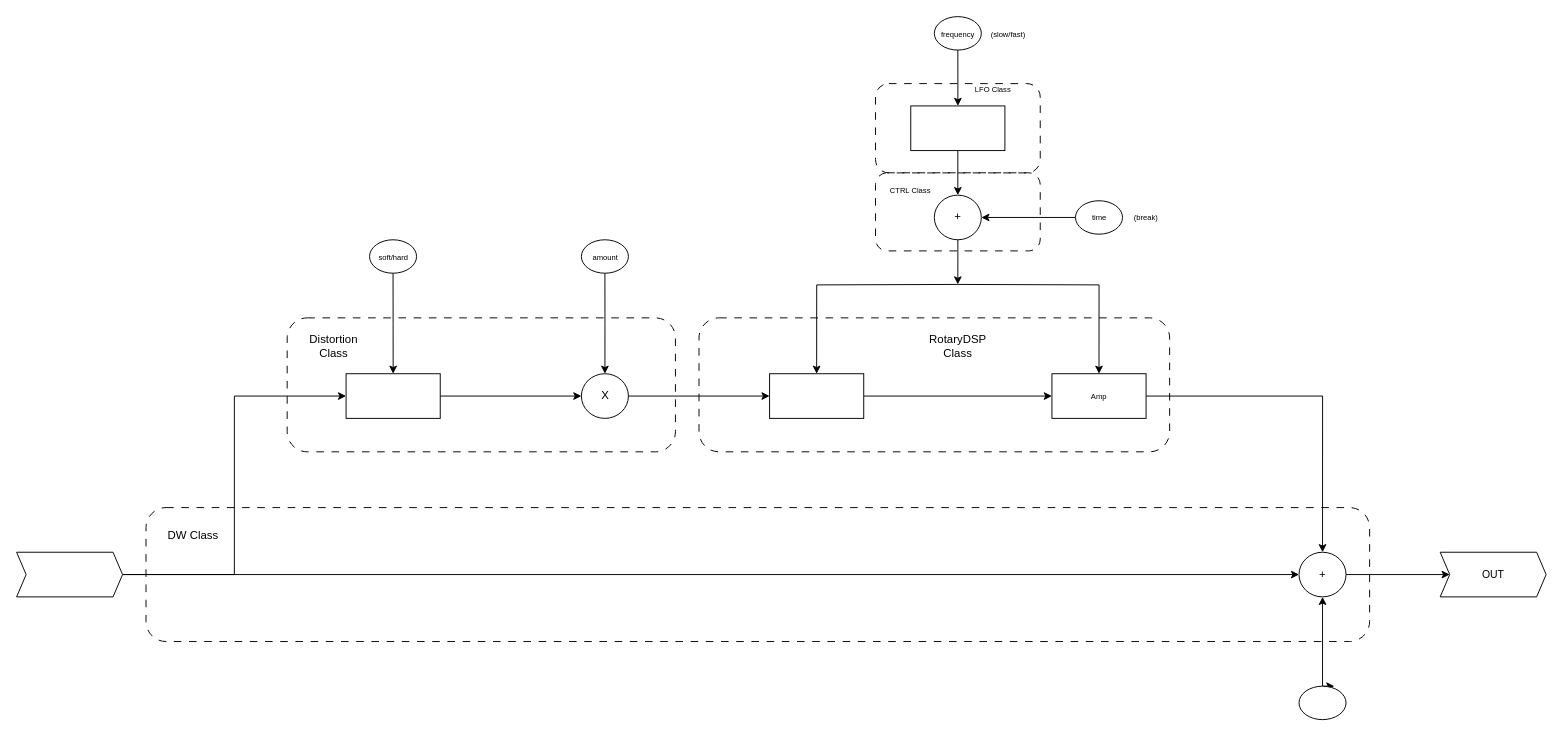
Image size: 1563x736. Some labels were removed from this diagram. Here are the shapes that lost their labels. From the top down, the centre of each, then its label:
At point 957,128: "LFO".
At point 392,395: "DistortionDSP".
At point 816,395: "Delay".
At point 69,574: "IN".
At point 1322,702: "dry/wet".
